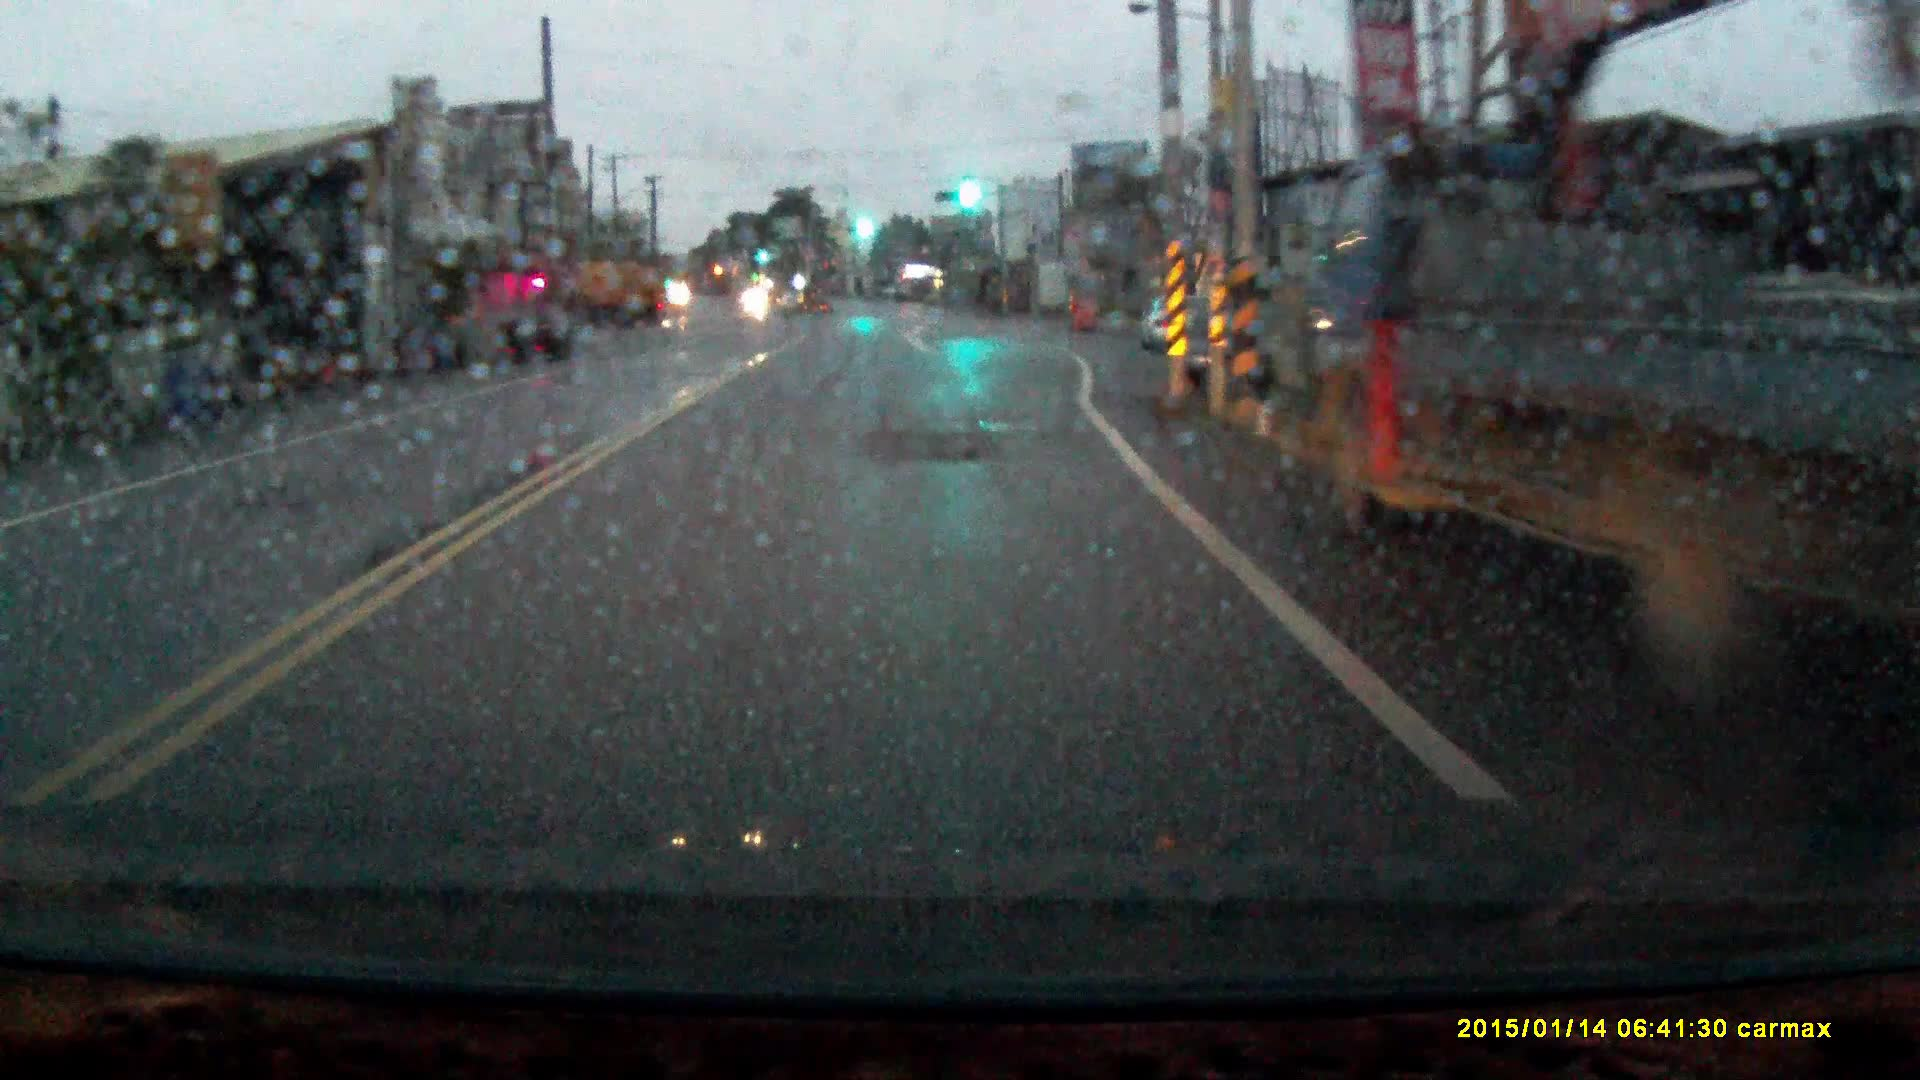vehicle: (1320, 135, 1920, 669), (549, 257, 659, 328), (496, 305, 588, 365)
